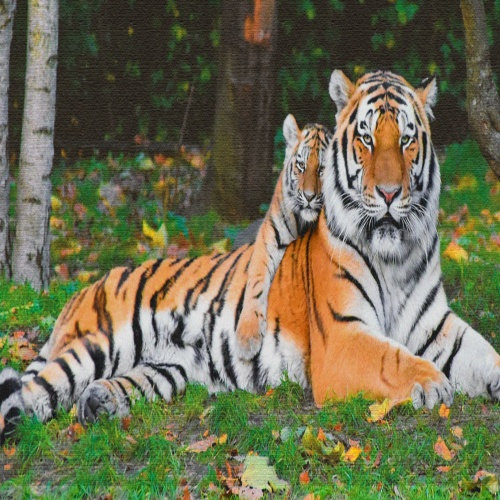tiger: (17, 67, 496, 441)
